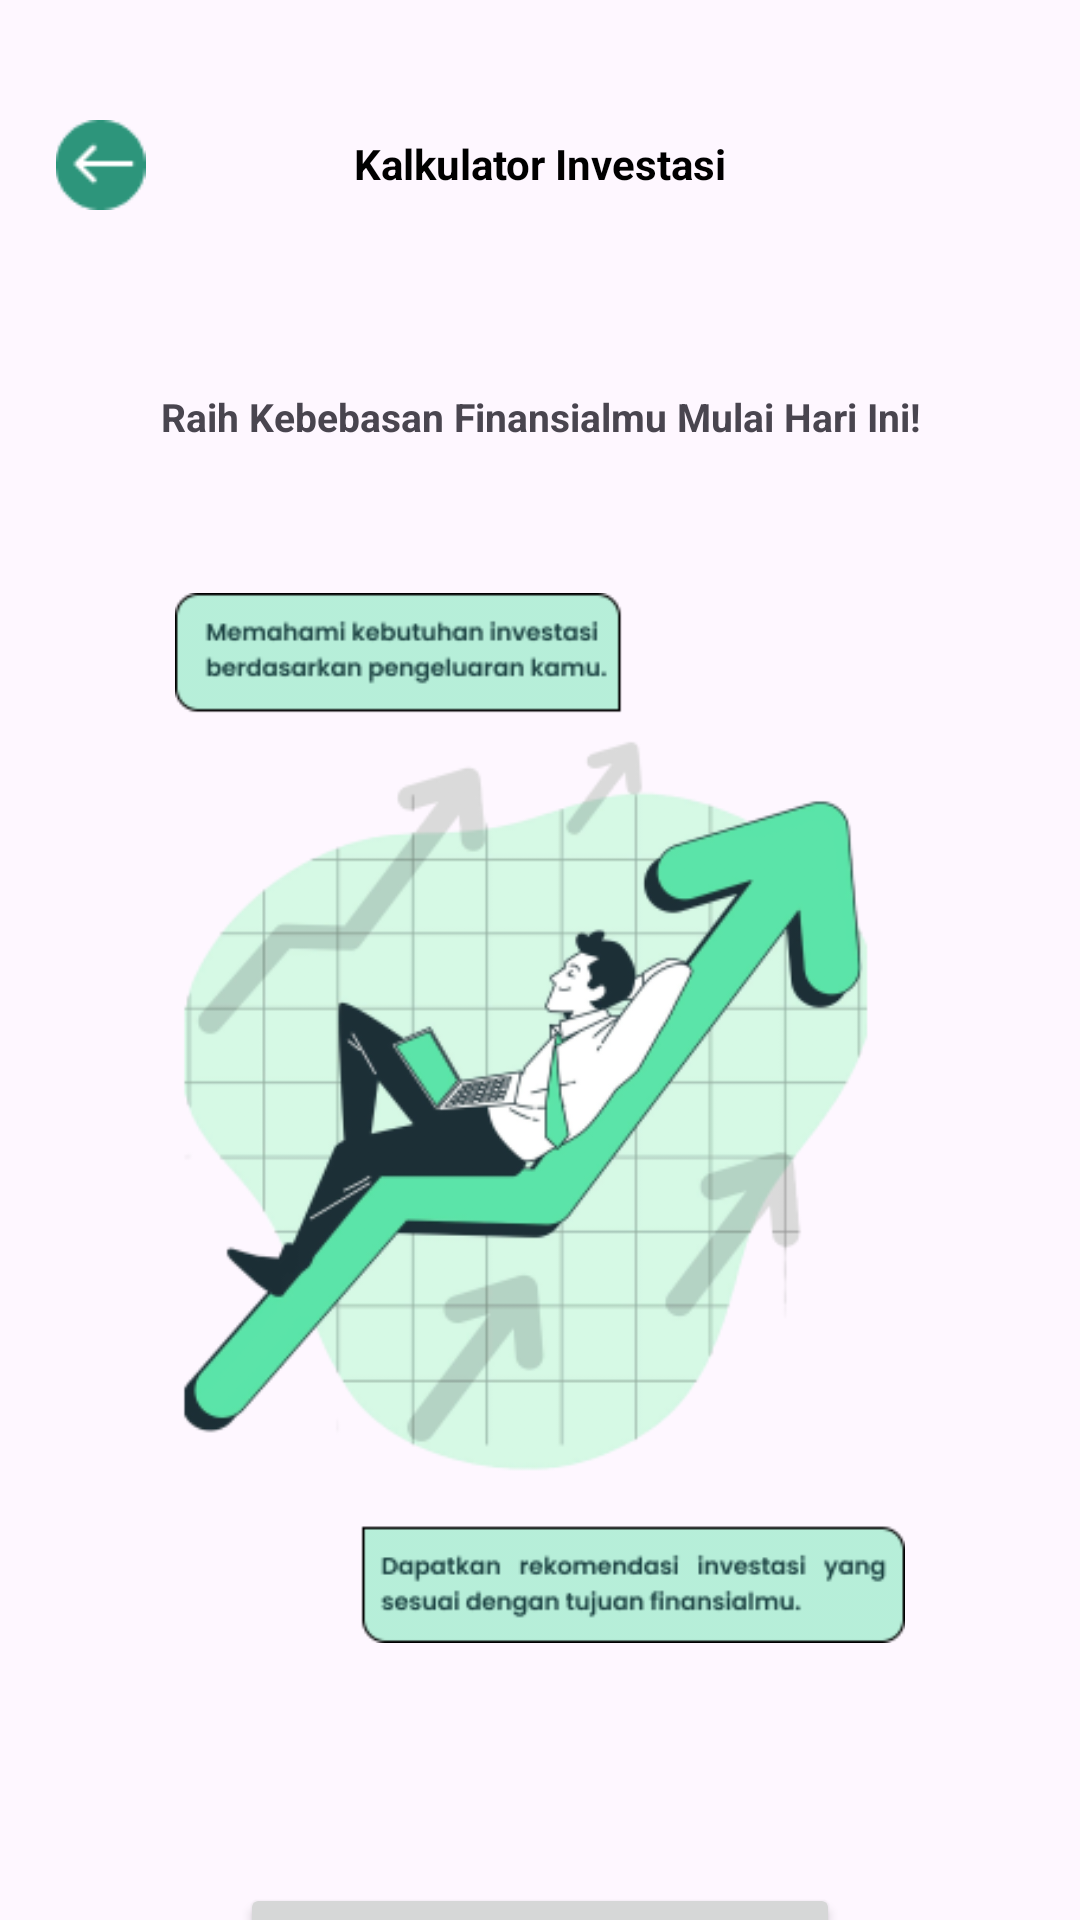

Icons on this 1080*1920 Android screen, each with the point to tap as (x,y):
back: (101,165)
